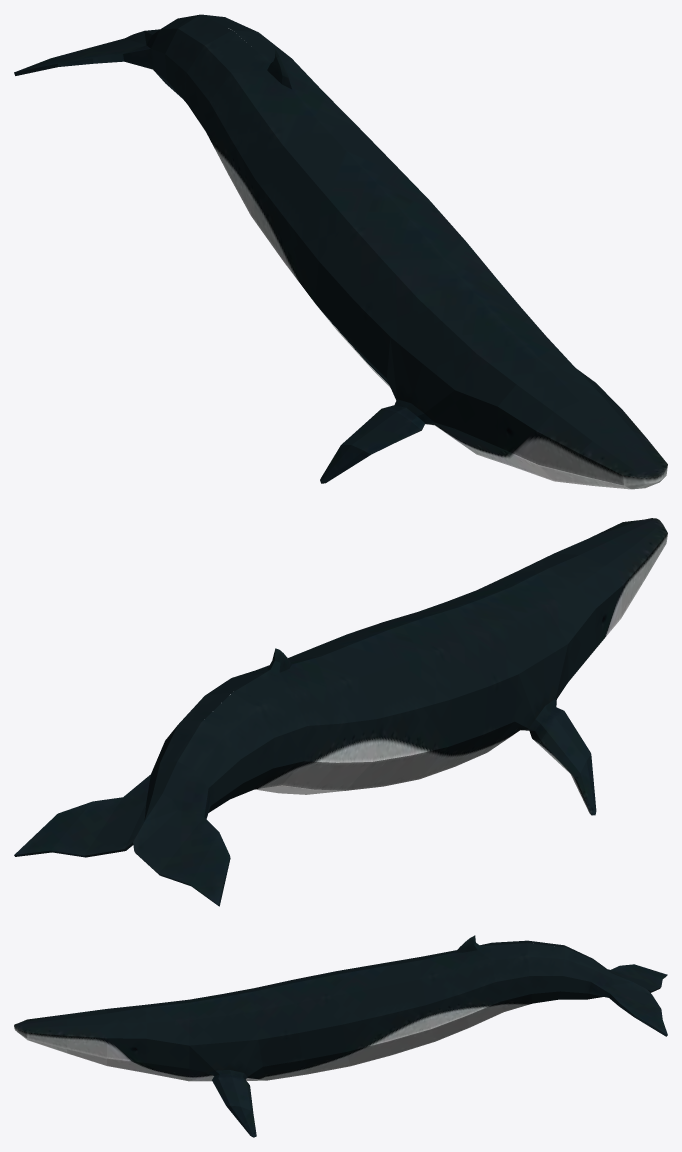
Rendered from other-finback-whale-279.glb.
The picture shows the model from 3 angles, top to bottom: view 1: azimuth 30°, elevation 25°; view 2: azimuth 150°, elevation 25°; view 3: azimuth 270°, elevation 25°; orthographic projection. The views are drawn at different scales.
Parts seen in each view (by area): view 1: Node; view 2: Node; view 3: Node.
Part boxes in pixels (box(x1,y1,x2,y2)): Node: box(14, 14, 667, 489); Node: box(14, 518, 667, 906); Node: box(14, 935, 667, 1137).
Bounding box in the file's own units: 9.45 × 8.8 × 32.22.
1 material, 1 textured.
